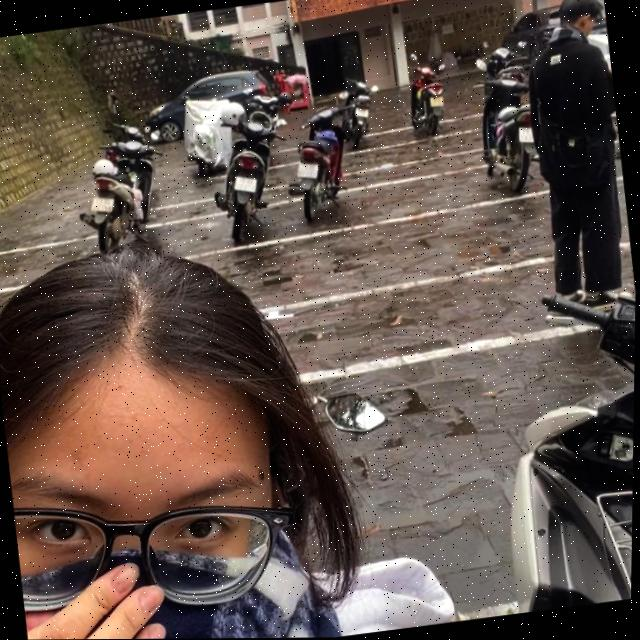motorcycle: (471, 310, 635, 614), (70, 135, 180, 258), (207, 105, 300, 245), (284, 96, 366, 228), (474, 93, 543, 199), (402, 47, 453, 139)
plate: (227, 169, 263, 199), (83, 191, 118, 219), (292, 157, 324, 183)
